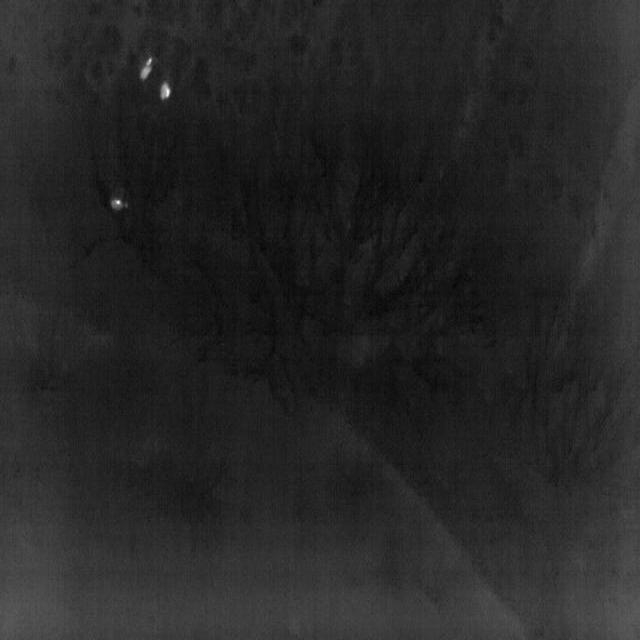deer: (140, 58, 152, 81), (110, 198, 129, 212), (160, 82, 172, 100)
